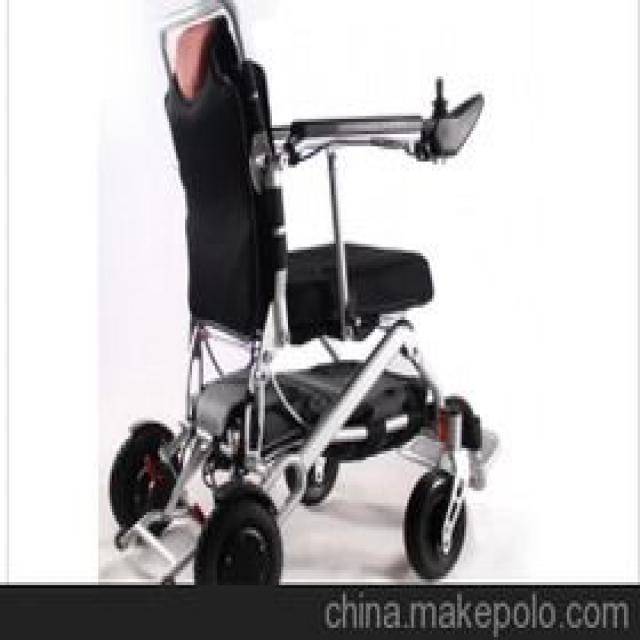wheelchairs: (113, 0, 502, 579)
